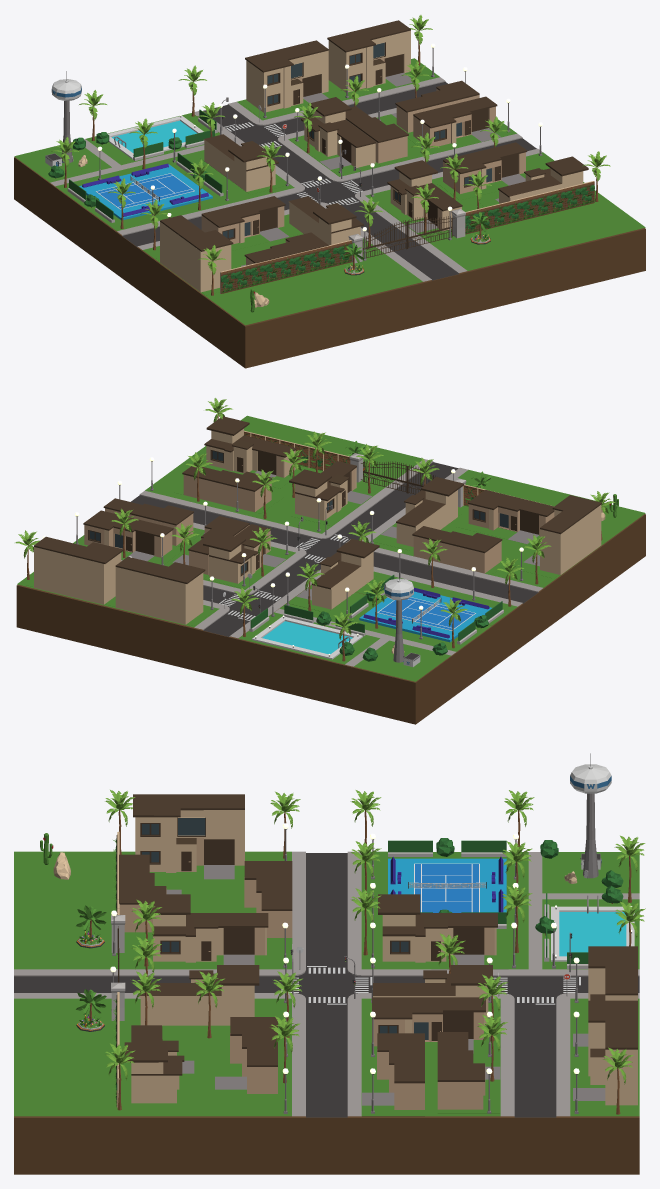
The model's file is POIResidential.glb.
The picture shows the model from 3 angles, top to bottom: view 1: azimuth 30°, elevation 25°; view 2: azimuth 150°, elevation 25°; view 3: azimuth 270°, elevation 25°; orthographic projection. The views are drawn at different scales.
Visible parts, largest first — view 1: Stage, tile-road-straight-nb.003, tile-road-straight-nb.001, house-small-1-top-roof (×5), house-small-2-roof (×6), house-medium-1-back-wall (×3), tile-road-intersection-nb, tile-sidewalk-intersection-t-nb, house-medium-1-roof (×3), tile-road-intersection-t-nb.001, tile-road-straight-nb.005, house-small-2-ground (×3) (+12 smaller); view 2: Stage, house-medium-1-back-wall (×3), house-small-1-top-roof (×5), tile-road-straight-nb.003, house-small-2-roof (×6), tile-road-straight-nb.001, tile-sidewalk-intersection-t-nb, tile-road-straight-nb.005, tile-road-intersection-nb, house-small-2-back-wall (×3), tile-road-intersection-t-nb.001, house-medium-1-roof (×3) (+10 smaller); view 3: Stage, tile-road-straight-nb.001, tile-road-straight-nb.003, house-small-1-top-roof (×5), house-small-2-roof (×6), tile-road-intersection-nb, tile-sidewalk-intersection-t-nb, tile-road-straight-nb.005, tile-road-straight-nb.002, house-medium-1-roof (×3), house-small-2-ground (×5), tile-road-intersection-t-nb.001 (+30 smaller).
Boxes of the visible parts, bbox=[...] form: Stage: bbox=[14, 115, 645, 368]; tile-road-straight-nb.003: bbox=[169, 214, 511, 325]; tile-road-straight-nb.001: bbox=[384, 125, 645, 259]; house-small-1-top-roof (×5): bbox=[203, 97, 588, 233]; house-small-2-roof (×6): bbox=[201, 80, 527, 263]; house-medium-1-back-wall (×3): bbox=[160, 30, 410, 292]; tile-road-intersection-nb: bbox=[225, 158, 399, 234]; tile-sidewalk-intersection-t-nb: bbox=[14, 113, 226, 212]; house-medium-1-roof (×3): bbox=[160, 20, 410, 251]; tile-road-intersection-t-nb.001: bbox=[194, 99, 313, 167]; tile-road-straight-nb.005: bbox=[91, 180, 299, 268]; house-small-2-ground (×3): bbox=[231, 119, 533, 250]; Stage: bbox=[16, 514, 645, 724]; house-medium-1-back-wall (×3): bbox=[34, 505, 601, 624]; house-small-1-top-roof (×5): bbox=[203, 416, 463, 589]; tile-road-straight-nb.003: bbox=[347, 448, 645, 568]; house-small-2-roof (×6): bbox=[83, 464, 554, 555]; tile-road-straight-nb.001: bbox=[131, 415, 379, 550]; tile-sidewalk-intersection-t-nb: bbox=[239, 592, 491, 681]; tile-road-straight-nb.005: bbox=[360, 553, 568, 625]; tile-road-intersection-nb: bbox=[270, 510, 410, 592]; house-small-2-back-wall (×3): bbox=[105, 474, 501, 573]; tile-road-intersection-t-nb.001: bbox=[150, 571, 311, 638]; house-medium-1-roof (×3): bbox=[34, 495, 601, 583]; Stage: bbox=[14, 1116, 639, 1174]; tile-road-straight-nb.001: bbox=[14, 1028, 431, 1117]; tile-road-straight-nb.003: bbox=[14, 851, 222, 1027]; house-small-1-top-roof (×5): bbox=[124, 894, 497, 1075]; house-small-2-roof (×6): bbox=[119, 854, 485, 1083]; tile-road-intersection-nb: bbox=[222, 940, 431, 1029]; tile-sidewalk-intersection-t-nb: bbox=[431, 852, 639, 969]; tile-road-straight-nb.005: bbox=[222, 851, 431, 941]; tile-road-straight-nb.002: bbox=[431, 1028, 639, 1117]; house-medium-1-roof (×3): bbox=[133, 794, 637, 1049]; house-small-2-ground (×5): bbox=[215, 886, 500, 1116]; tile-road-intersection-t-nb.001: bbox=[431, 969, 639, 1029].
Size of the model in its own units: 15.64 by 4.83 by 15.38.
